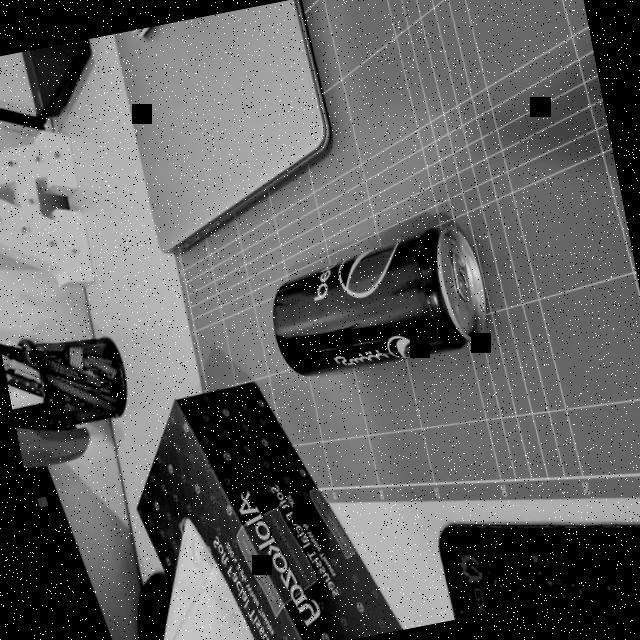can: (258, 220, 494, 390)
